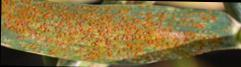Wheat: (6, 8, 96, 53), (97, 14, 187, 54)
